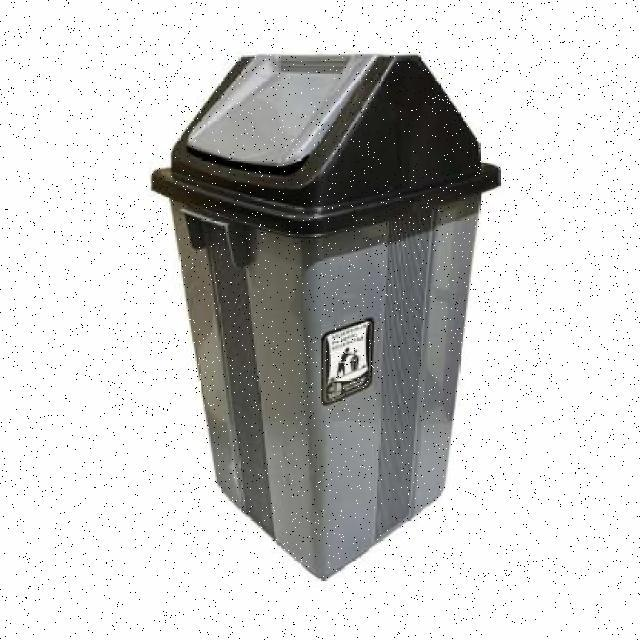garbage container: (145, 46, 522, 599)
